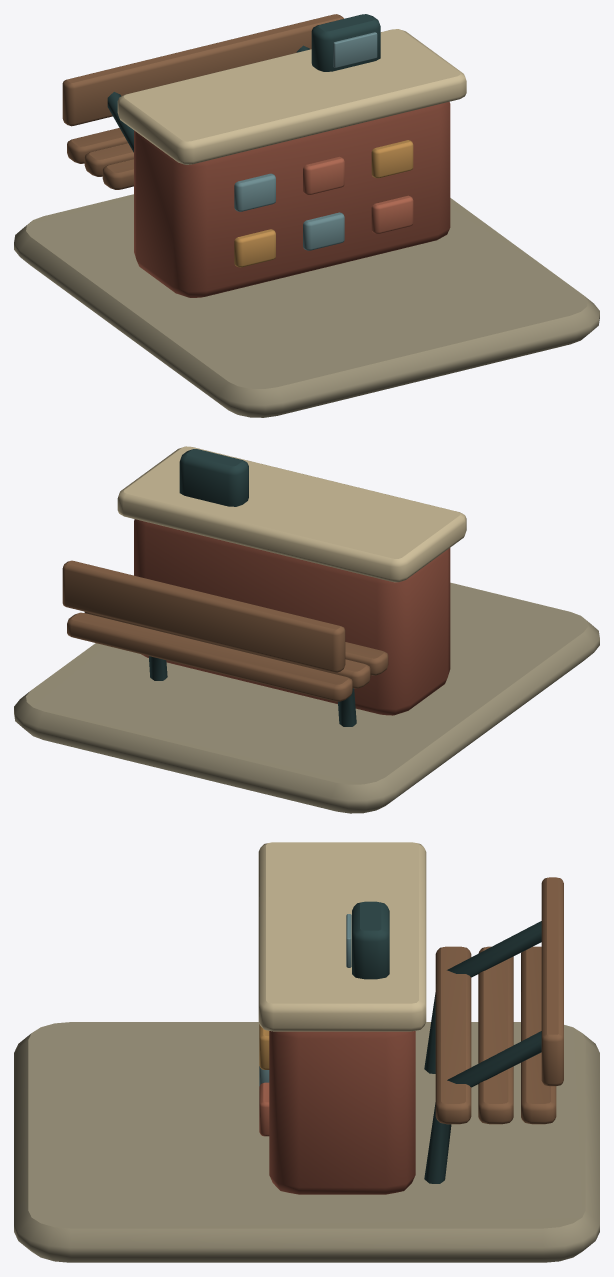
Rendered from drive_through_works_1.glb.
3 views of the same model, one above another, from view 1: azimuth 30°, elevation 25°; view 2: azimuth 150°, elevation 25°; view 3: azimuth 270°, elevation 25° (orthographic). The views are drawn at different scales.
Parts seen in each view (by area): view 1: DriveThroughWorks1; view 2: DriveThroughWorks1; view 3: DriveThroughWorks1.
Boxes of the visible parts, <box> form: DriveThroughWorks1: <box>14,14,599,417</box>; DriveThroughWorks1: <box>14,446,599,813</box>; DriveThroughWorks1: <box>14,842,599,1262</box>.
Bounding box in the file's own units: 2.19 × 1.32 × 2.48.
